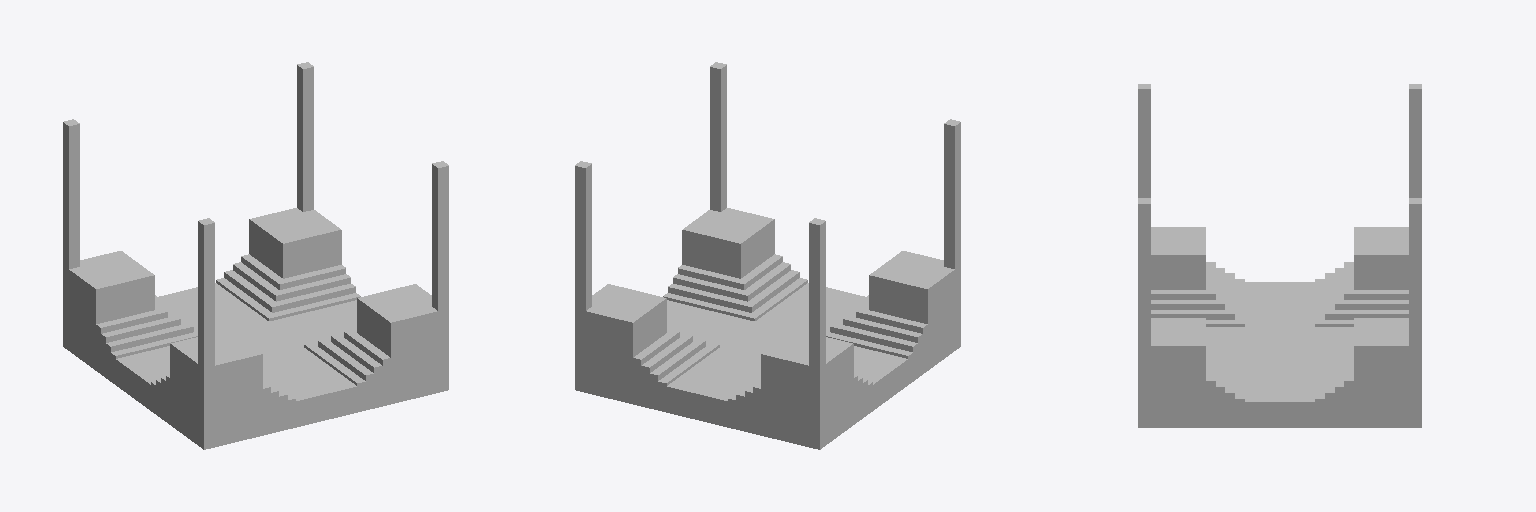
Rendered from cross.obj.
3 views of the same model, side by side, from view 1: azimuth 30°, elevation 25°; view 2: azimuth 150°, elevation 25°; view 3: azimuth 270°, elevation 25° (orthographic).
Visible parts, largest first — view 1: cross; view 2: cross; view 3: cross.
Boxes of the visible parts, x1=… form: cross: x1=63, y1=62, x2=448, y2=449; cross: x1=575, y1=62, x2=960, y2=449; cross: x1=1138, y1=84, x2=1421, y2=427.
Bounding box in the file's own units: 88 × 77 × 88.